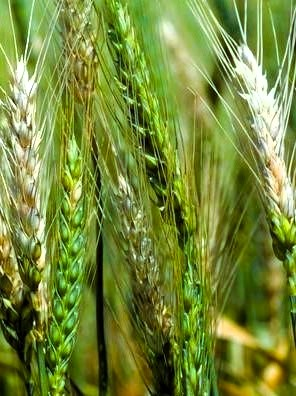Wheat scab: (222, 34, 296, 280)
